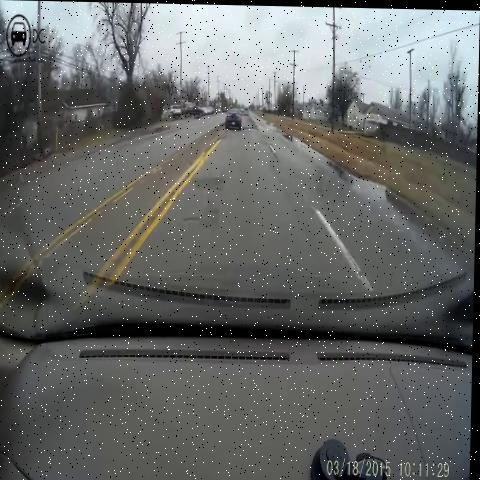pothole: (191, 163, 231, 199), (179, 204, 206, 233), (240, 119, 263, 139)
